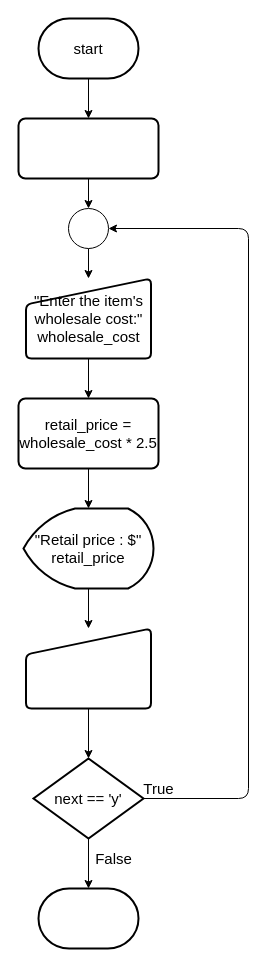
This 274x966 diagram has some shape labels left out. Here are the shapes that lost their labels. From the top down, the box of each, then its label:
(17, 117, 159, 179): next = 'y'
(24, 627, 152, 709): "Enter y for yes" next
(37, 887, 139, 949): end
